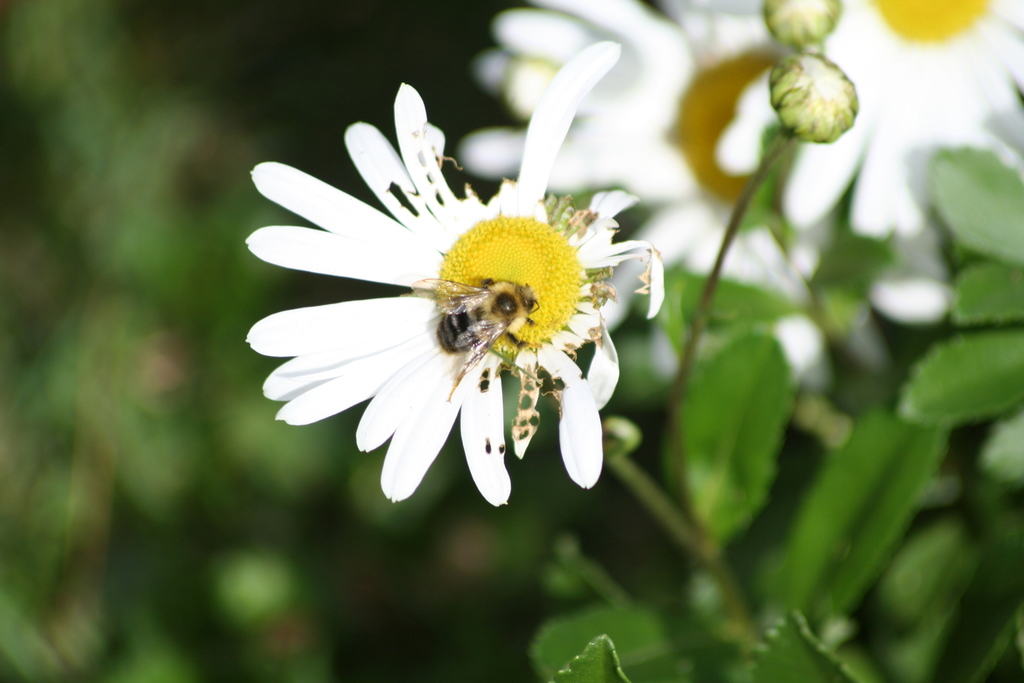bumblebee: (409, 274, 537, 403)
